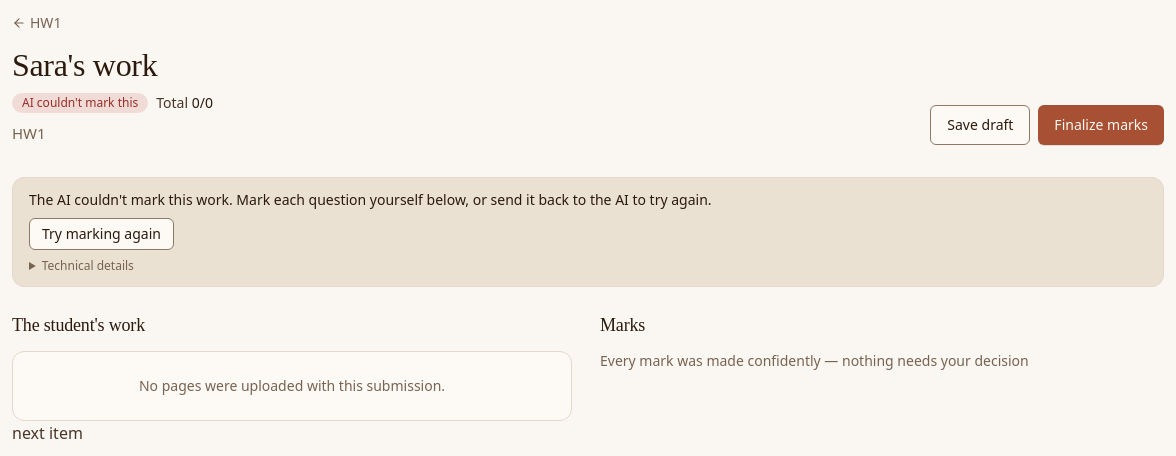
Test: work the AI couldn't mark can be sent back to it
The width and height of the screenshot is (1176, 456).
Click the button "Try marking again" at (102, 234), box [29,218,174,250]
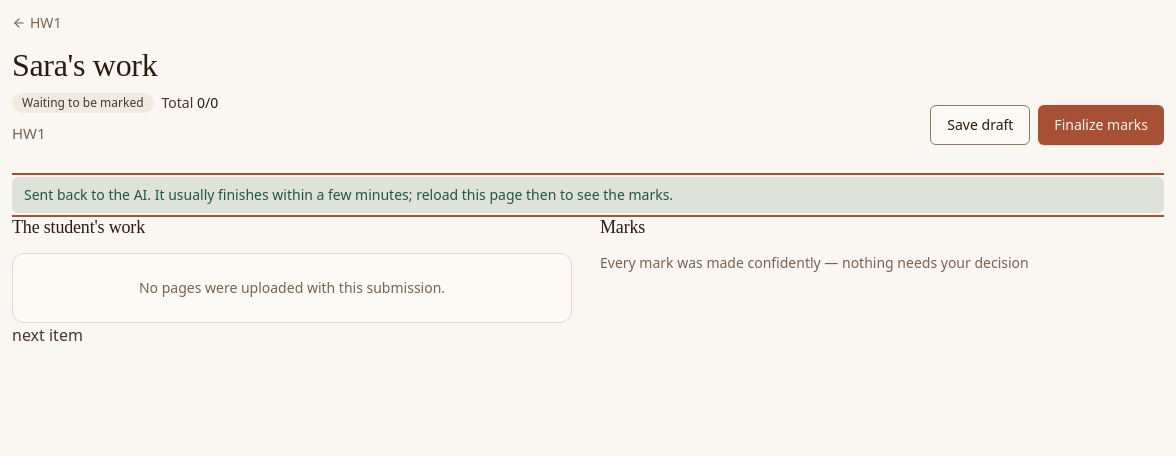
Expected: the text "Sent back to the AI" is shown, [24,185,673,204]
Expected: the text "The AI couldn't mark this work." is gone
Expected: the button "Try marking again" is gone
